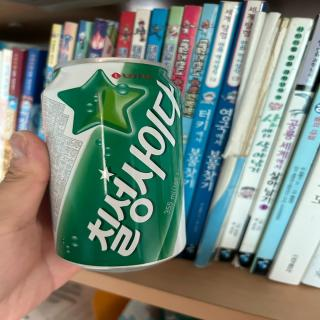chilsung: (39, 56, 188, 274)
